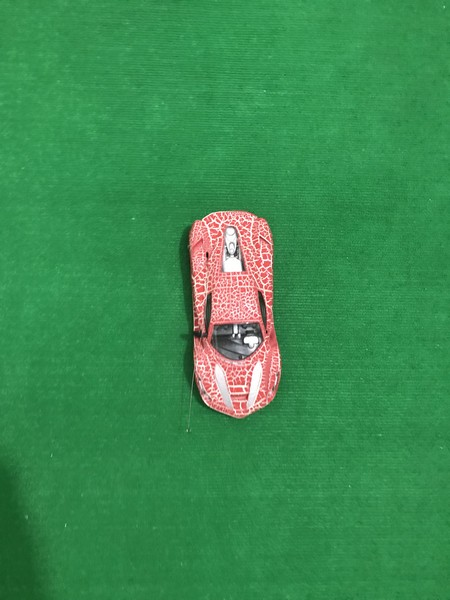RC: (184, 208, 285, 421)
